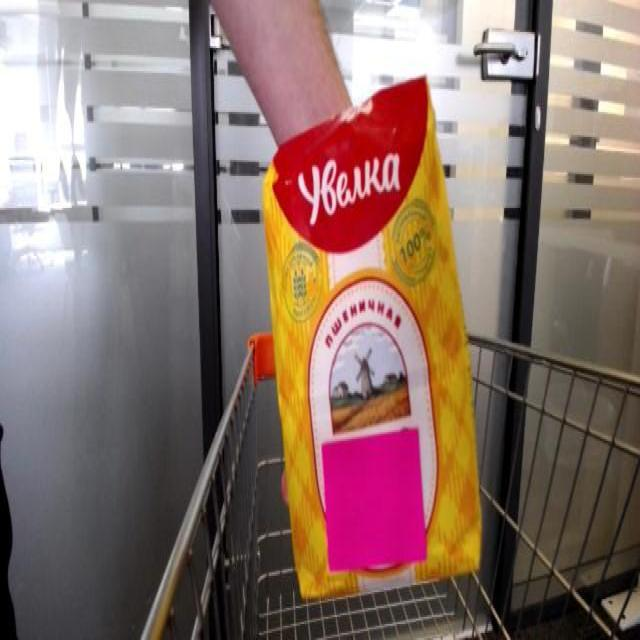Almond Milk: (256, 73, 489, 608)
